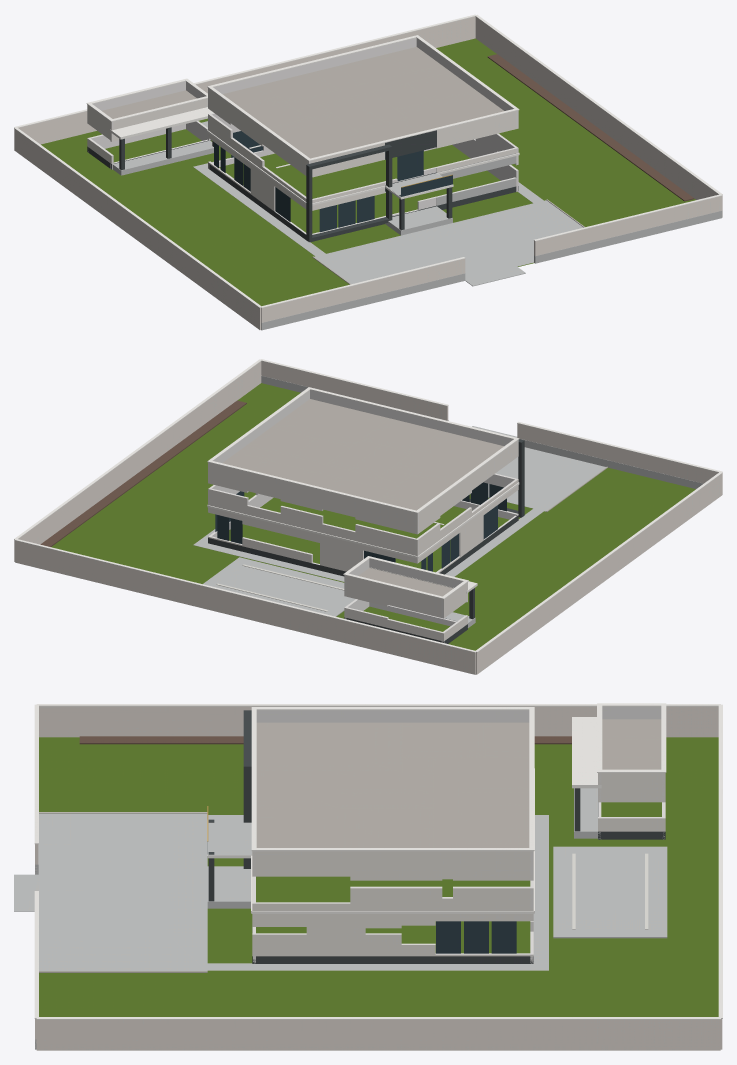
Rendered from est_S3_lod1.glb.
The picture shows the model from 3 angles, top to bottom: view 1: azimuth 30°, elevation 25°; view 2: azimuth 150°, elevation 25°; view 3: azimuth 270°, elevation 25°; orthographic projection. The views are drawn at different scales.
Parts seen in each view (by area): view 1: GR_est_S3_lod1; view 2: GR_est_S3_lod1; view 3: GR_est_S3_lod1.
Part boxes in pixels (x1=…): GR_est_S3_lod1: x1=14, y1=14, x2=722, y2=330; GR_est_S3_lod1: x1=14, y1=359, x2=722, y2=674; GR_est_S3_lod1: x1=14, y1=703, x2=722, y2=1050.
Bounding box in the file's own units: 52.31 × 10.33 × 49.76.
Materials: 3 (1 with a texture image).
